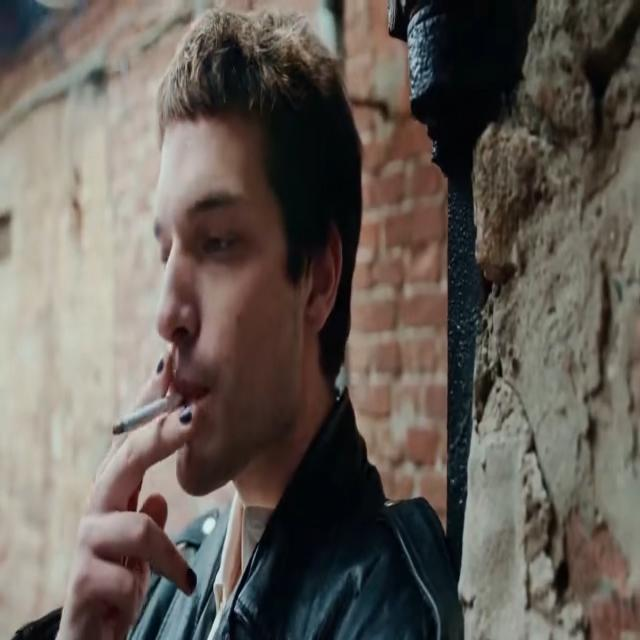Курение: (106, 399, 185, 437)
